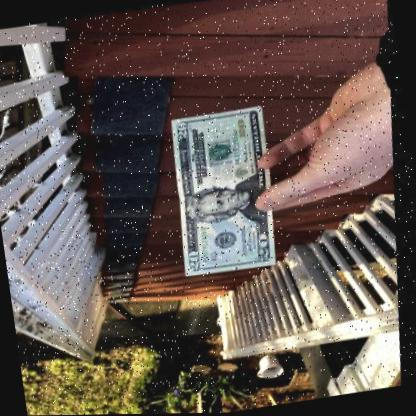dollar_front: (171, 104, 280, 274)
